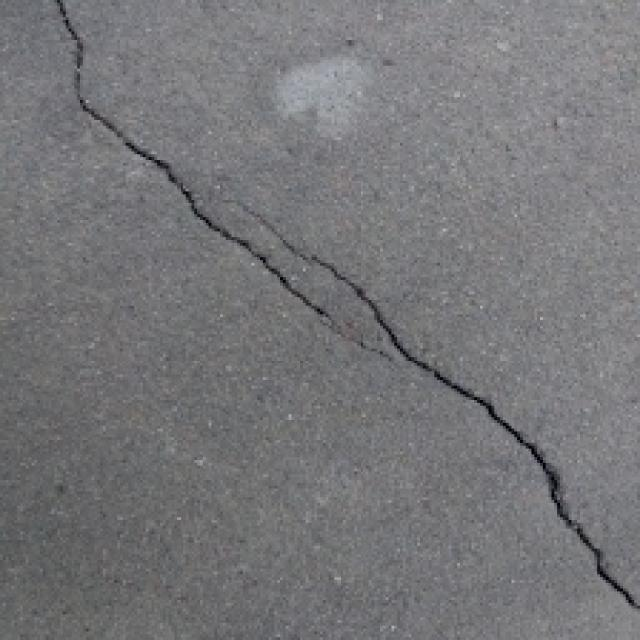crack: (48, 0, 640, 626)
